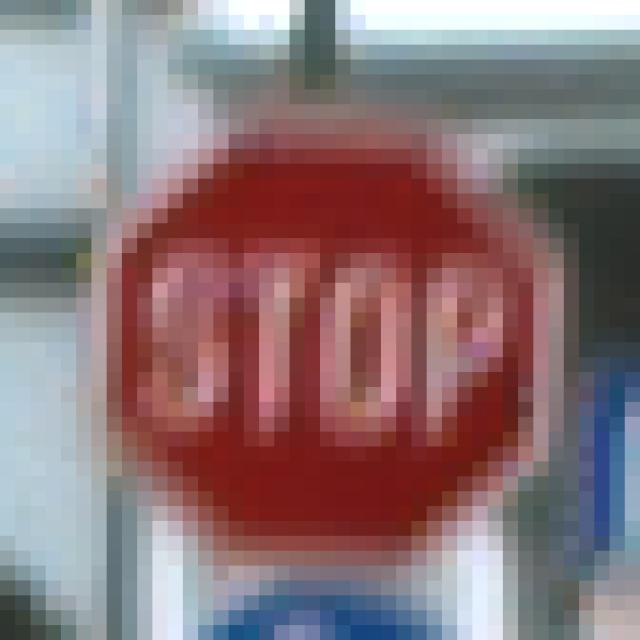STOP: (92, 90, 565, 552)
